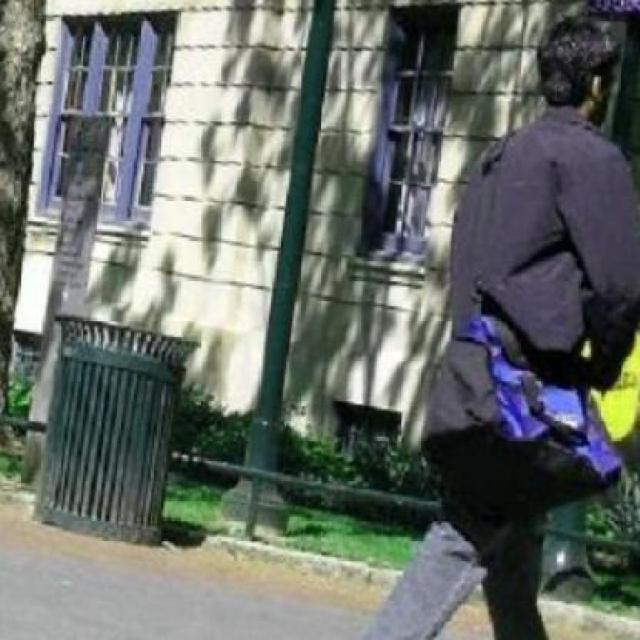Person: (360, 7, 638, 638)
